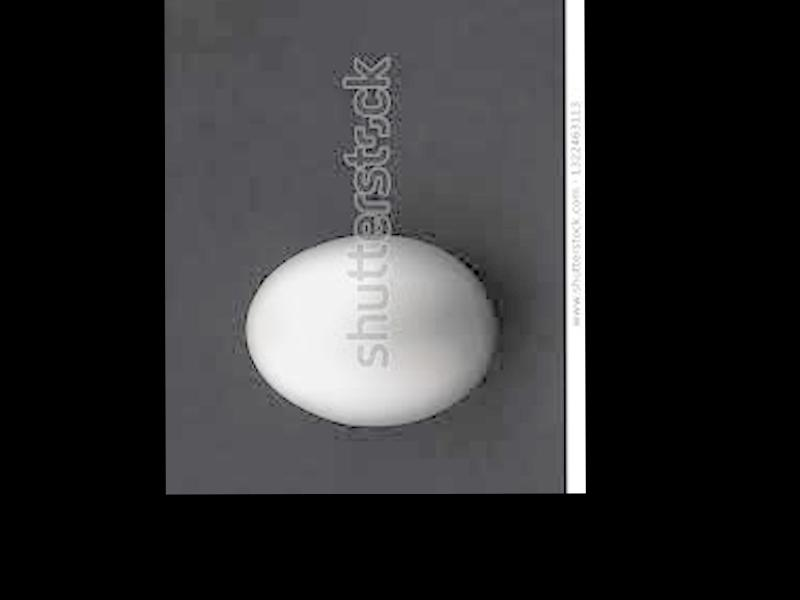Eggs: (243, 239, 493, 427)
